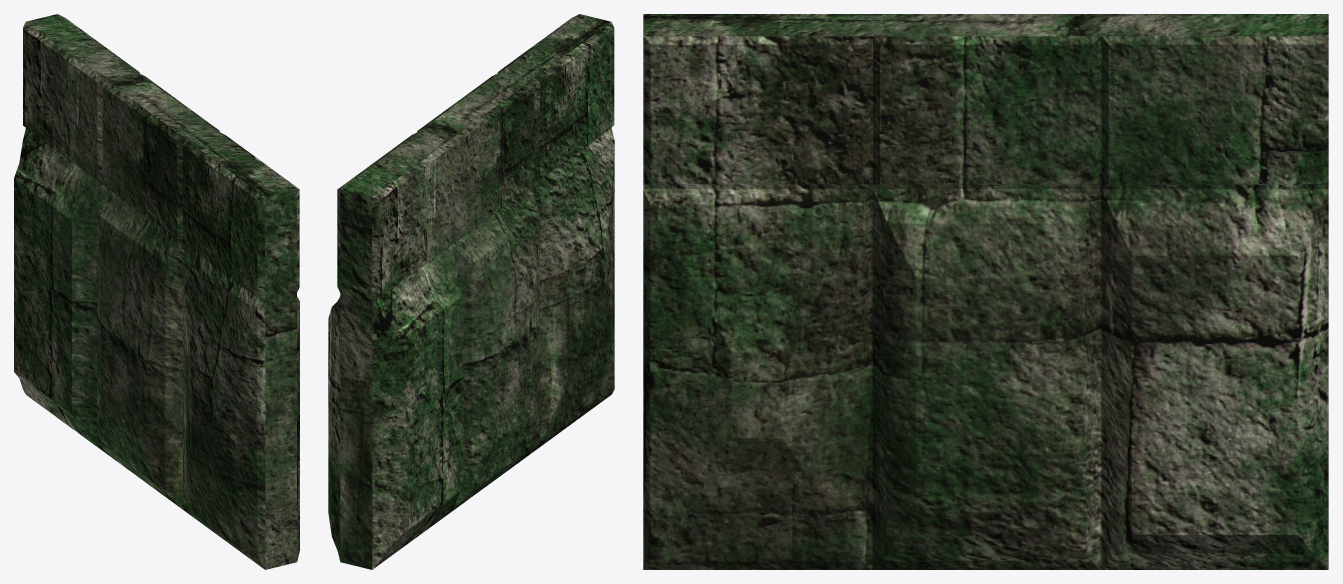
File: rockWall.fbx
3 renders of one model, left to right at view 1: azimuth 30°, elevation 25°; view 2: azimuth 150°, elevation 25°; view 3: azimuth 270°, elevation 25°, orthographic. The views are drawn at different scales.
Parts seen in each view (by area): view 1: rockWall; view 2: rockWall; view 3: rockWall.
Part boxes in pixels (x1,y1,x2,y2): rockWall: (14,14,299,569); rockWall: (328,14,614,569); rockWall: (643,14,1328,569).
Size of the model in its own units: 0.604 by 2.8 by 3.26.
